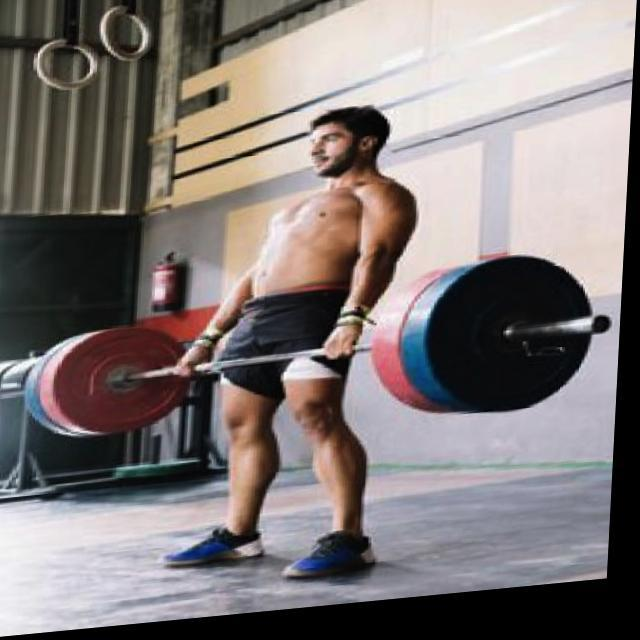barbell: (427, 250, 623, 435)
